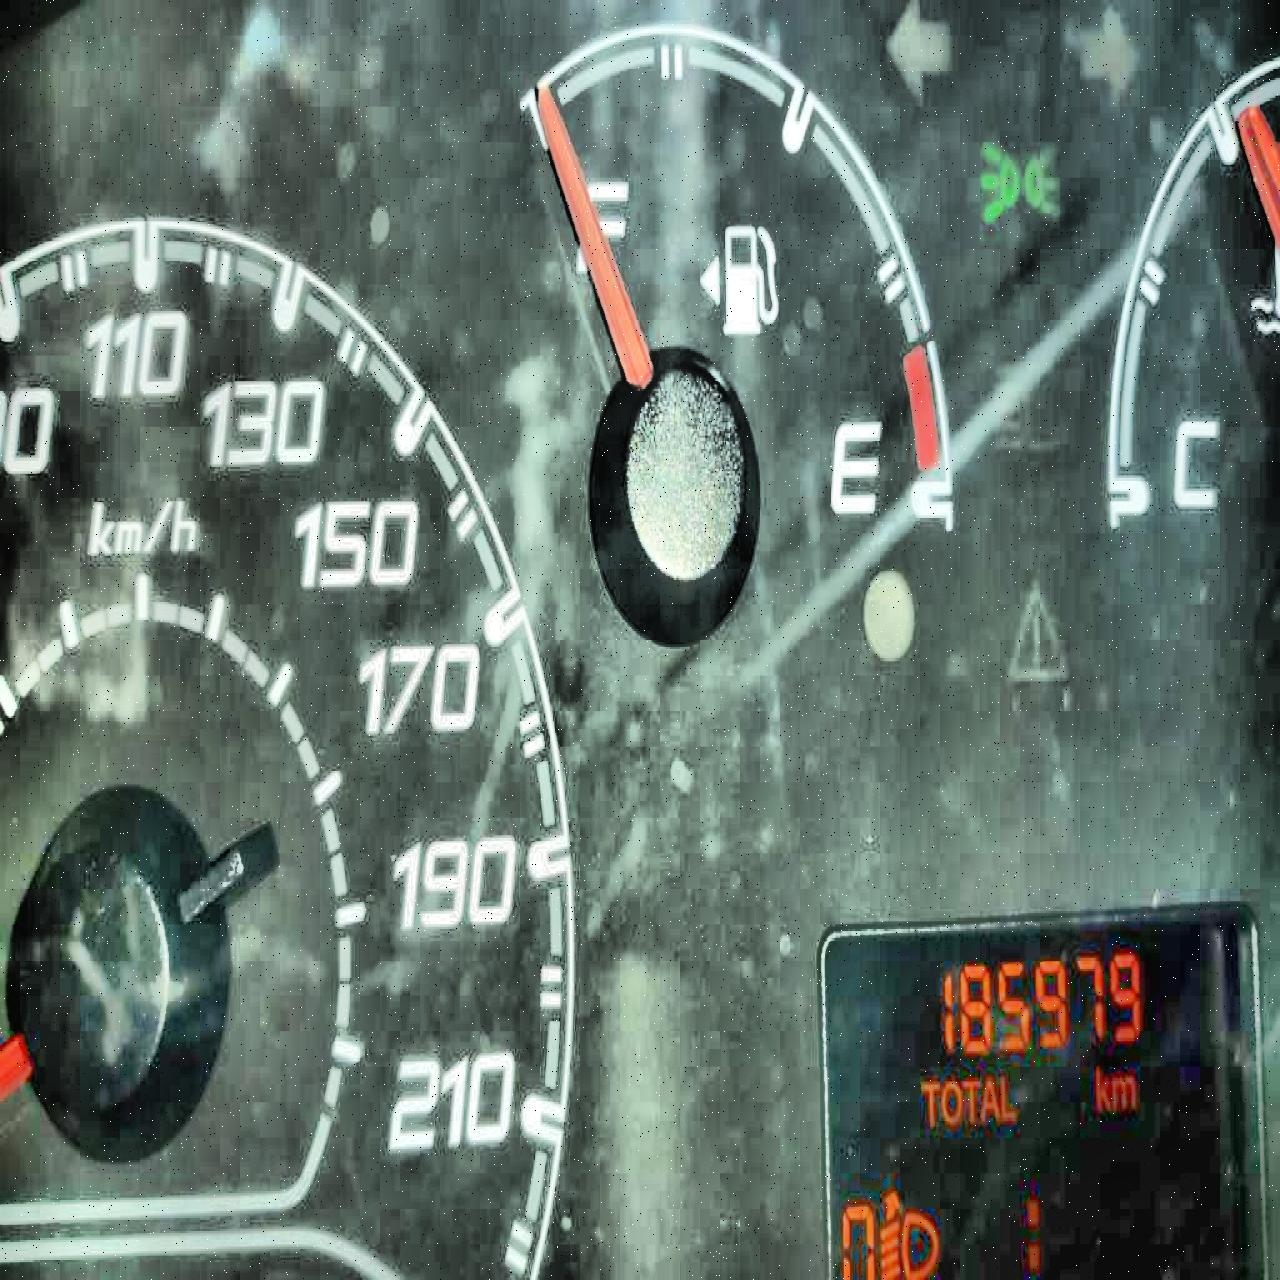0: (837, 1198, 877, 1275)
1: (939, 965, 958, 1054)
5: (996, 960, 1029, 1054)
7: (1074, 949, 1104, 1039)
8: (959, 960, 993, 1051)
9: (1034, 953, 1069, 1051), (1110, 948, 1141, 1042)
X: (1021, 1186, 1048, 1273), (941, 1076, 961, 1124), (919, 1076, 938, 1126), (1111, 1071, 1135, 1109), (998, 1074, 1015, 1123), (1094, 1062, 1110, 1111), (961, 1076, 979, 1122), (981, 1076, 998, 1122)
odometer: (805, 908, 1273, 1278)
